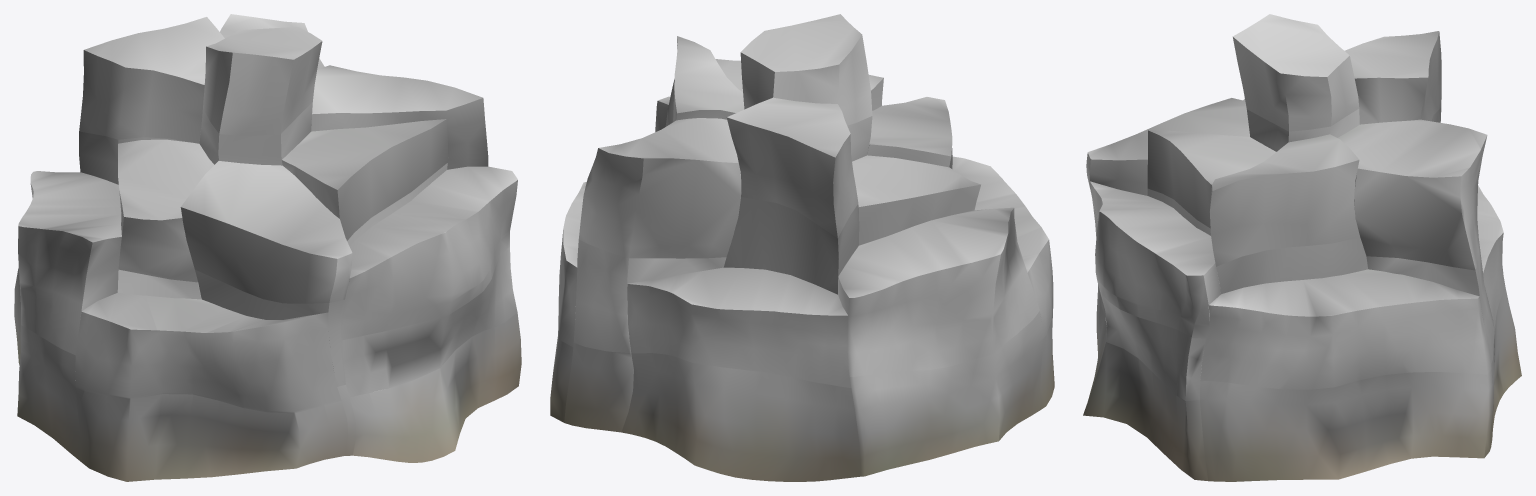
Rendered from iron_rock_v5.glb.
3 renders of one model, left to right at view 1: azimuth 30°, elevation 25°; view 2: azimuth 150°, elevation 25°; view 3: azimuth 270°, elevation 25°, orthographic. The views are drawn at different scales.
Visible parts, largest first — view 1: Chunk_32, Chunk_35, Chunk_31, Chunk_21, Chunk_30, Chunk_15, Chunk_33, Chunk_24, Chunk_04, Chunk_18, Chunk_08, Chunk_34 (+7 smaller); view 2: Chunk_30, Chunk_27, Chunk_28, Chunk_11, Chunk_29, Chunk_15, Chunk_04, Chunk_14, Chunk_18, Chunk_10, Chunk_09, Chunk_21 (+7 smaller); view 3: Chunk_26, Chunk_25, Chunk_11, Chunk_08, Chunk_35, Chunk_04, Chunk_33, Chunk_15, Chunk_24, Chunk_21, Chunk_34, Chunk_07 (+4 smaller).
Boxes of the visible parts, x1,y1,x2,y2 form: Chunk_32: [75, 293, 341, 413]; Chunk_35: [342, 166, 517, 340]; Chunk_31: [75, 387, 348, 481]; Chunk_21: [180, 161, 352, 303]; Chunk_30: [18, 171, 121, 355]; Chunk_15: [79, 17, 224, 143]; Chunk_33: [349, 312, 521, 462]; Chunk_24: [282, 119, 447, 246]; Chunk_04: [203, 27, 322, 135]; Chunk_18: [118, 139, 214, 282]; Chunk_08: [311, 65, 488, 169]; Chunk_34: [342, 247, 517, 397]; Chunk_30: [838, 207, 1039, 377]; Chunk_27: [621, 353, 860, 481]; Chunk_28: [627, 267, 851, 387]; Chunk_11: [578, 118, 741, 258]; Chunk_29: [849, 311, 1042, 476]; Chunk_15: [726, 97, 858, 238]; Chunk_04: [740, 14, 872, 125]; Chunk_14: [723, 197, 859, 294]; Chunk_18: [852, 155, 980, 245]; Chunk_10: [573, 240, 726, 353]; Chunk_09: [564, 342, 633, 432]; Chunk_21: [867, 97, 952, 168]; Chunk_26: [1200, 269, 1491, 389]; Chunk_25: [1200, 369, 1492, 481]; Chunk_11: [1338, 119, 1487, 270]; Chunk_08: [1210, 134, 1359, 266]; Chunk_35: [1090, 181, 1220, 338]; Chunk_04: [1232, 14, 1359, 131]; Chunk_33: [1083, 303, 1208, 480]; Chunk_15: [1344, 31, 1441, 124]; Chunk_24: [1147, 130, 1275, 235]; Chunk_21: [1086, 98, 1249, 198]; Chunk_34: [1100, 294, 1206, 401]; Chunk_07: [1216, 237, 1367, 294].
Size of the model in its own units: 3.19 by 2.55 by 2.9.
